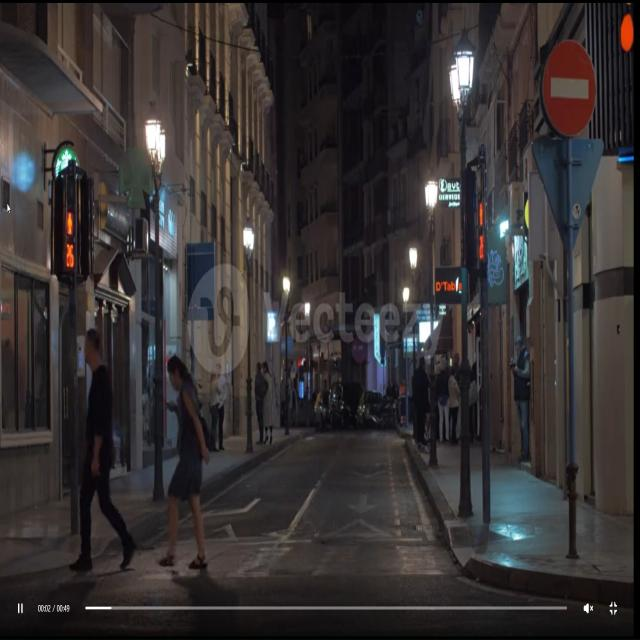pedestrian: (70, 329, 134, 571), (167, 354, 210, 569), (0, 336, 2, 362), (0, 364, 2, 384)
